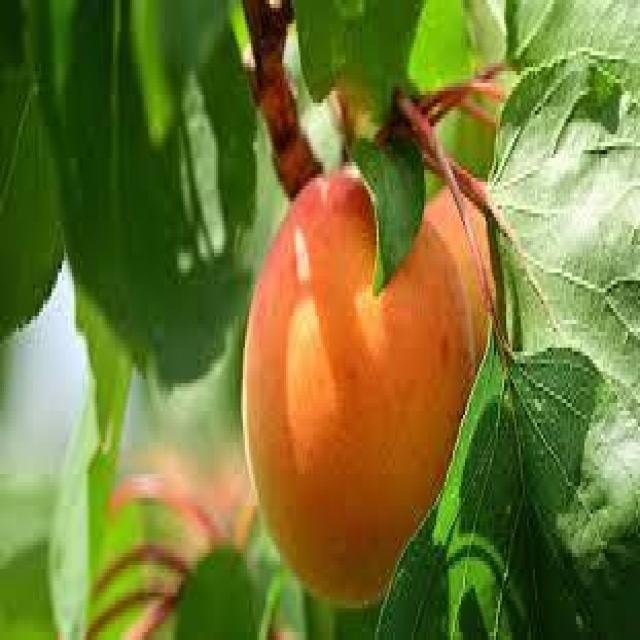kayisi: (237, 156, 479, 611)
yaprak: (20, 0, 260, 408), (369, 318, 640, 640), (485, 51, 640, 421), (335, 131, 428, 298), (502, 0, 640, 107)
